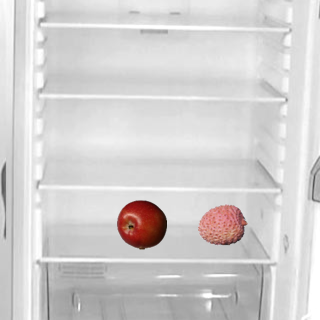Apple Braeburn: (116, 199, 166, 249)
Lychee: (197, 199, 247, 249)
